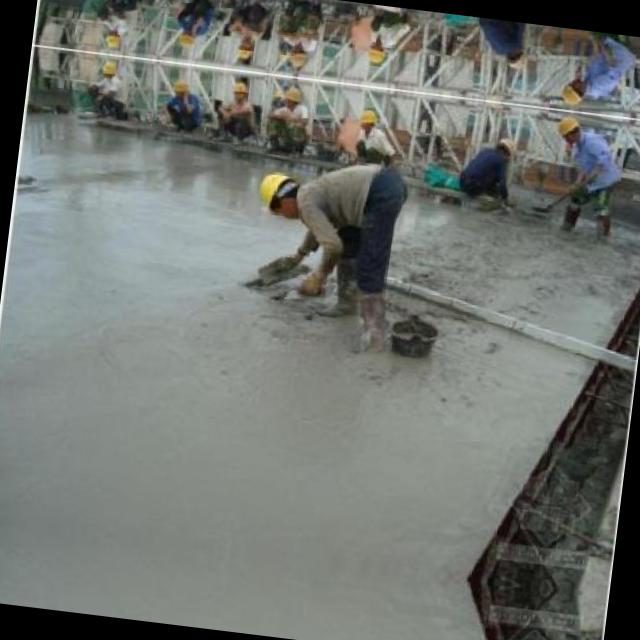helmet: (252, 165, 308, 217), (544, 110, 586, 148), (550, 70, 590, 108), (275, 76, 311, 114), (280, 36, 316, 74), (350, 101, 383, 135), (358, 34, 391, 68), (491, 128, 521, 158), (501, 46, 531, 75), (167, 68, 193, 100), (93, 58, 125, 84), (173, 22, 199, 54), (98, 21, 130, 47), (226, 76, 252, 104), (230, 34, 256, 61)
